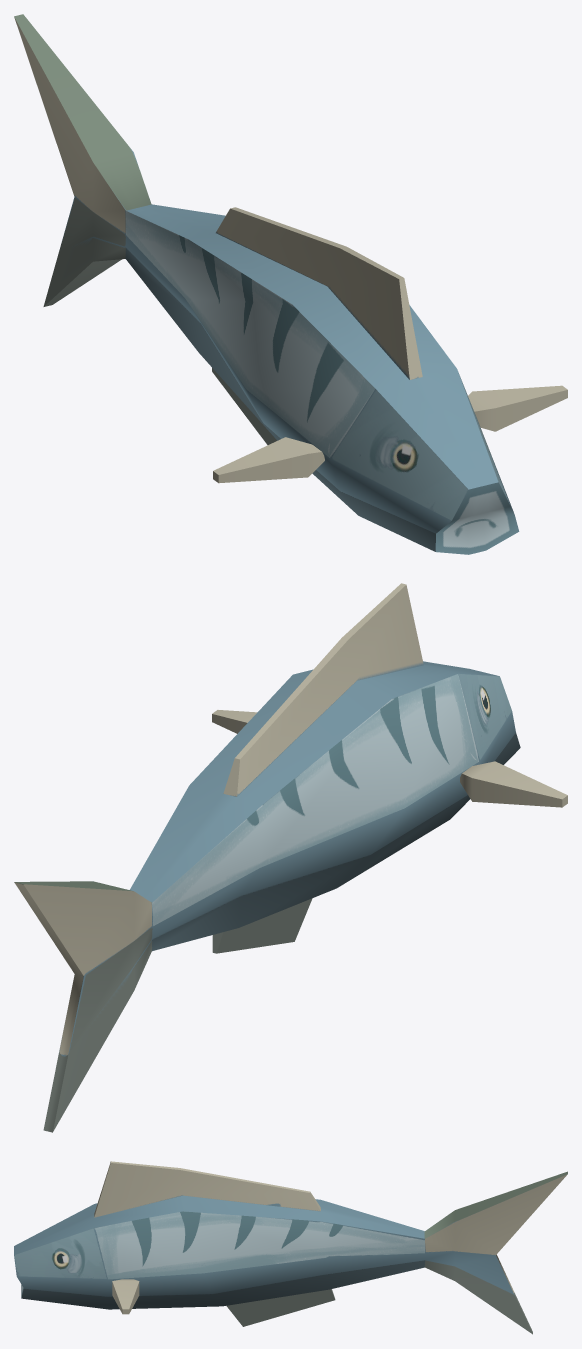
File: Fish_Normal.glb
3 views of the same model, one above another, from view 1: azimuth 30°, elevation 25°; view 2: azimuth 150°, elevation 25°; view 3: azimuth 270°, elevation 25° (orthographic). The views are drawn at different scales.
Parts seen in each view (by area): view 1: Fish_Model; view 2: Fish_Model; view 3: Fish_Model.
Part boxes in pixels (x1,y1,x2,y2): Fish_Model: (14, 14, 567, 554); Fish_Model: (14, 583, 567, 1132); Fish_Model: (14, 1161, 567, 1334).
Bounding box in the file's own units: 0.39 × 0.306 × 0.8988.
Materials: 1 (1 with a texture image).
